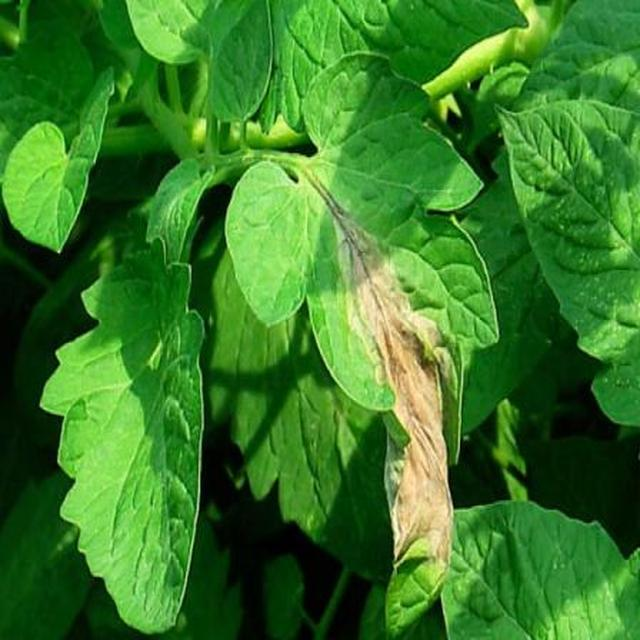Healthy Leaf: (178, 493, 517, 640)
